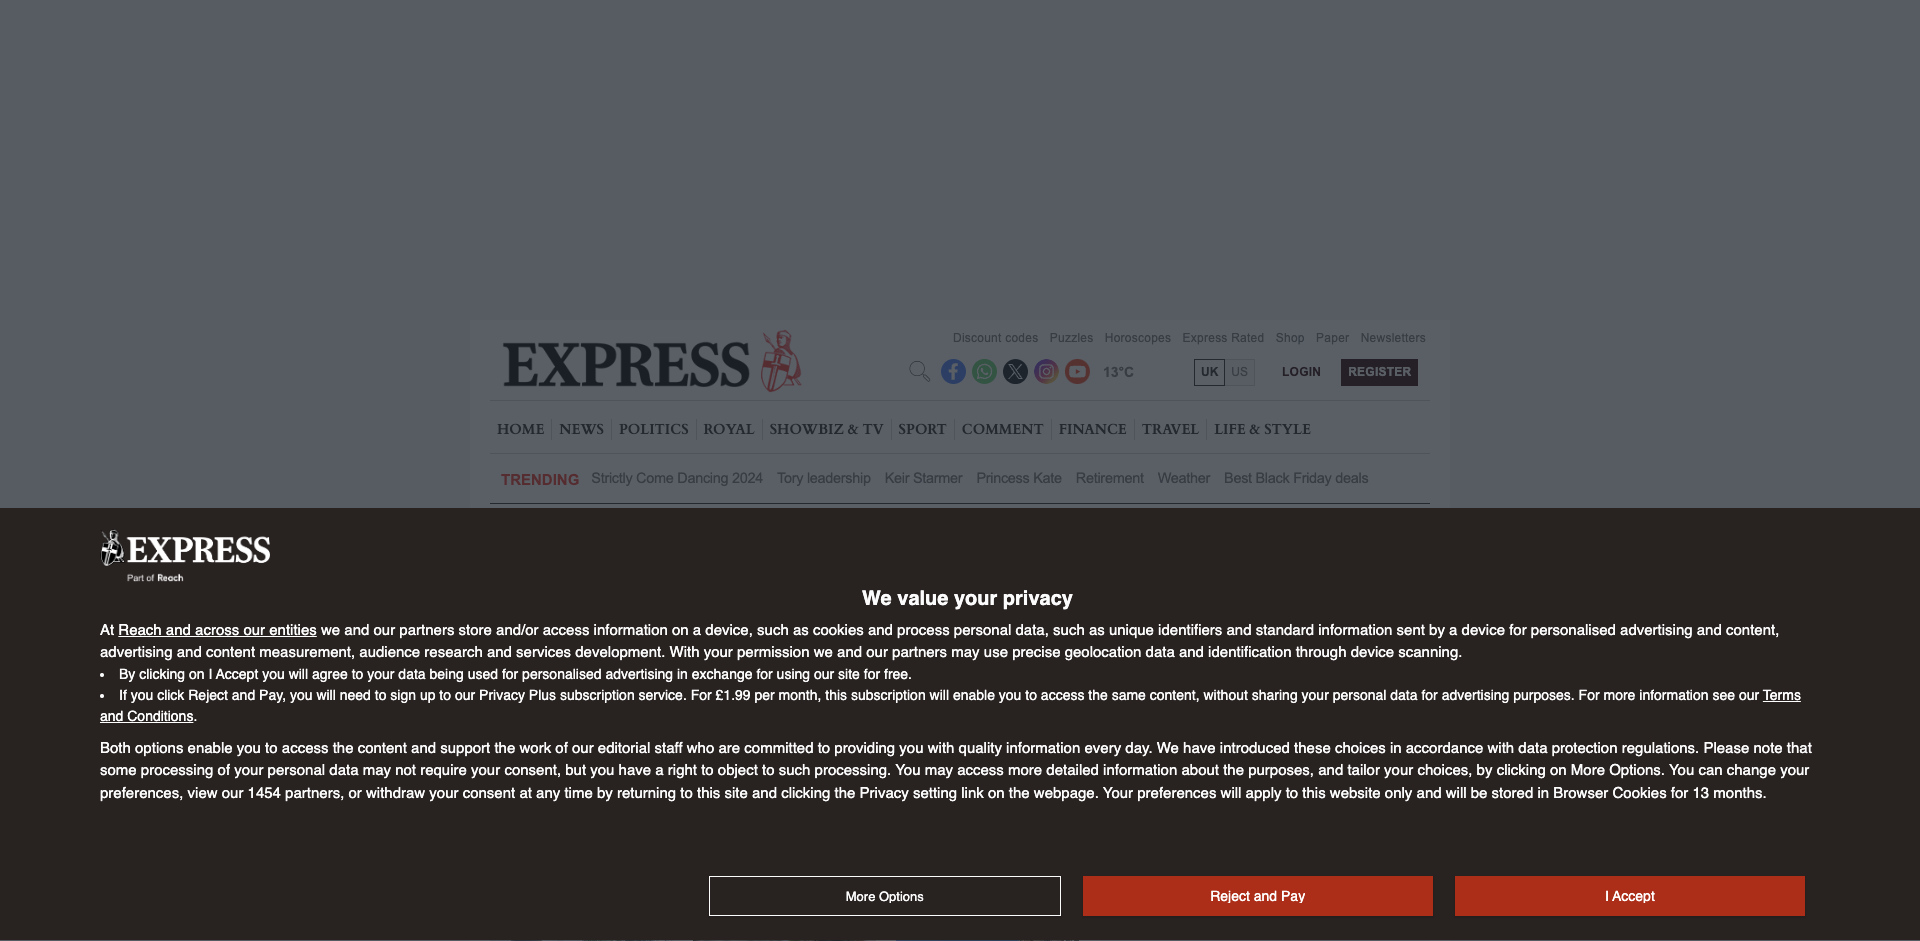button: (702, 864, 1820, 931), (709, 876, 1060, 916), (1082, 876, 1433, 916), (1455, 876, 1805, 916), (909, 359, 934, 384)
link: (100, 686, 1801, 723), (1100, 796, 1430, 935), (584, 463, 770, 494), (1217, 463, 1375, 494), (790, 494, 931, 524), (119, 620, 317, 637), (770, 463, 878, 494), (684, 494, 790, 524), (584, 494, 684, 524), (970, 463, 1069, 494), (878, 463, 970, 494), (1103, 353, 1174, 391), (762, 419, 890, 440), (1069, 463, 1151, 494), (1206, 419, 1318, 440), (949, 326, 1042, 350), (1179, 326, 1269, 350), (1151, 463, 1217, 494), (954, 419, 1051, 440), (1101, 326, 1176, 350), (1357, 326, 1430, 350), (611, 419, 696, 440), (1051, 419, 1134, 440), (1134, 419, 1206, 440), (696, 419, 762, 440), (890, 419, 954, 440), (490, 419, 551, 440), (1046, 326, 1097, 350), (551, 419, 611, 440), (491, 935, 673, 941), (694, 935, 876, 941), (898, 935, 1079, 941), (1313, 326, 1353, 350), (1272, 326, 1309, 350), (1194, 359, 1226, 386), (1226, 359, 1255, 386), (1003, 359, 1029, 384), (1033, 359, 1059, 384), (942, 359, 966, 384), (972, 359, 997, 384), (1065, 359, 1090, 384)
